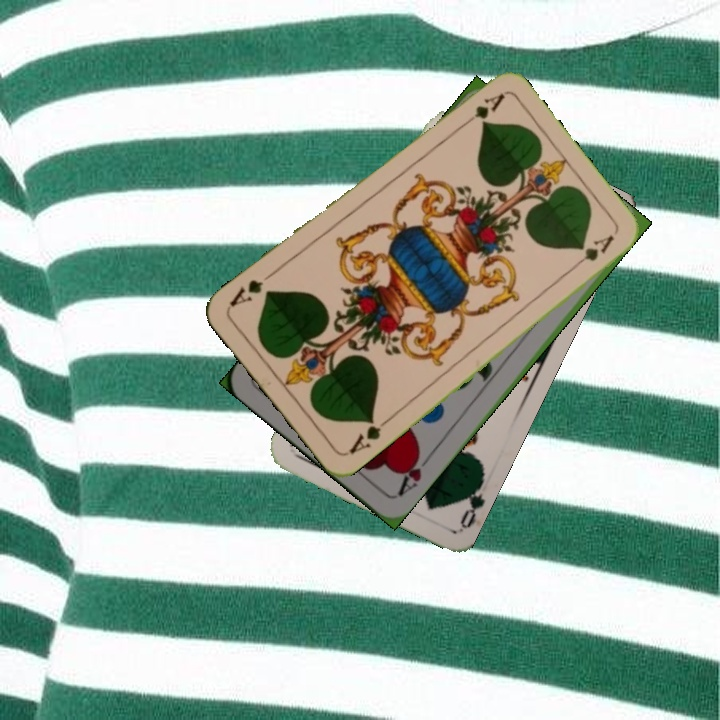GA: (455, 89, 507, 131), (344, 414, 393, 457)
GO: (455, 473, 487, 531)
HA: (393, 447, 436, 499)
